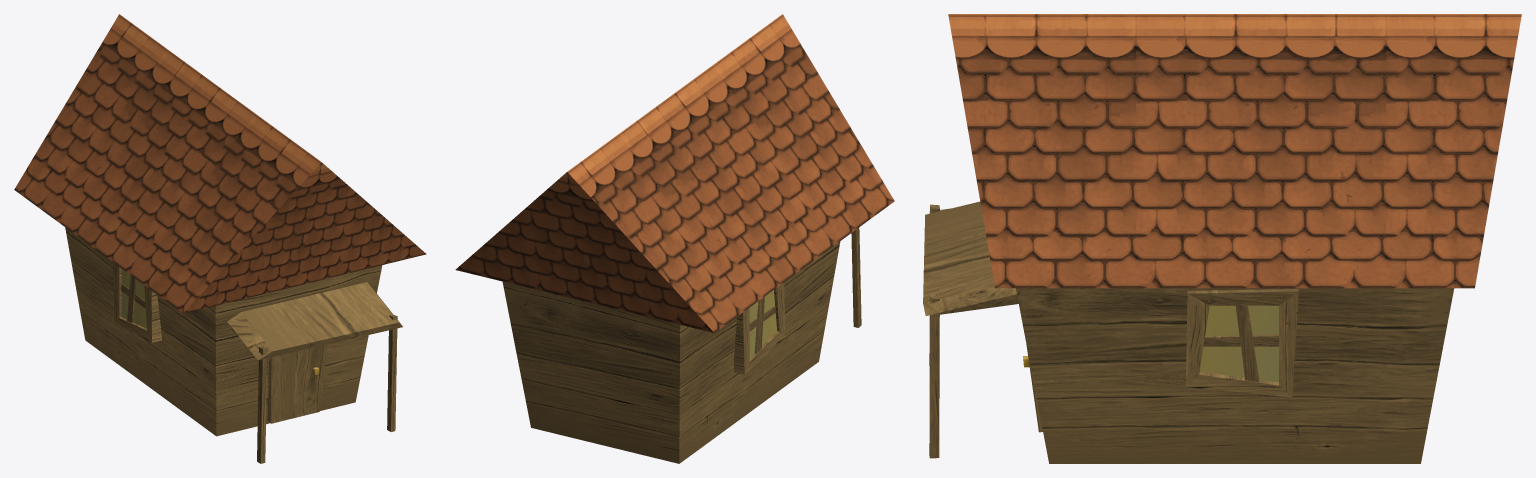
The model's file is casinha.fbx.
The picture shows the model from 3 angles, left to right: view 1: azimuth 30°, elevation 25°; view 2: azimuth 150°, elevation 25°; view 3: azimuth 270°, elevation 25°; orthographic projection. The views are drawn at different scales.
Visible parts, largest first — view 1: casinha; view 2: casinha; view 3: casinha.
Boxes of the visible parts, left/top/right/bottom form: casinha: left=14, top=14, right=426, bottom=463; casinha: left=455, top=14, right=894, bottom=463; casinha: left=923, top=14, right=1521, bottom=463.
Bounding box in the file's own units: 28.09 × 31.24 × 42.19.
Materials: 3 (2 with a texture image).
